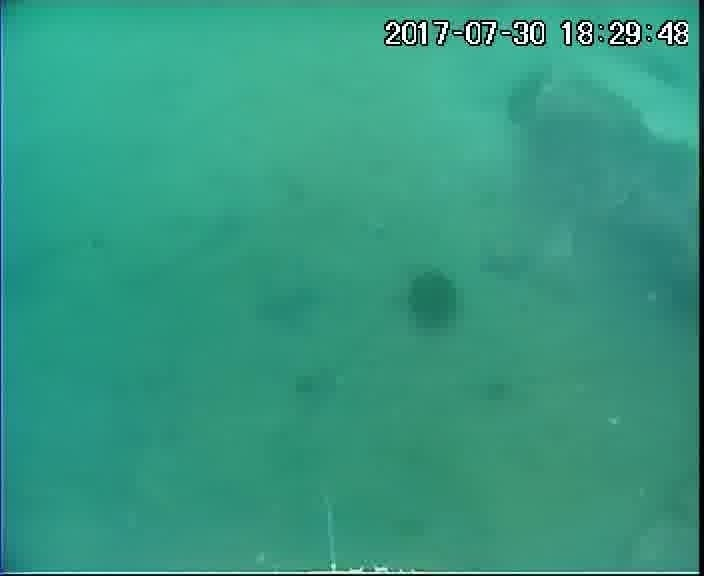echinus: (399, 266, 465, 337), (498, 69, 554, 135)
starfish: (475, 234, 539, 285)
